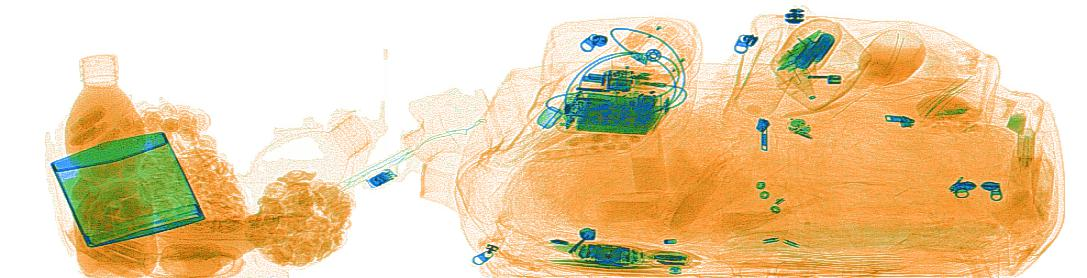battery: (792, 30, 836, 72)
